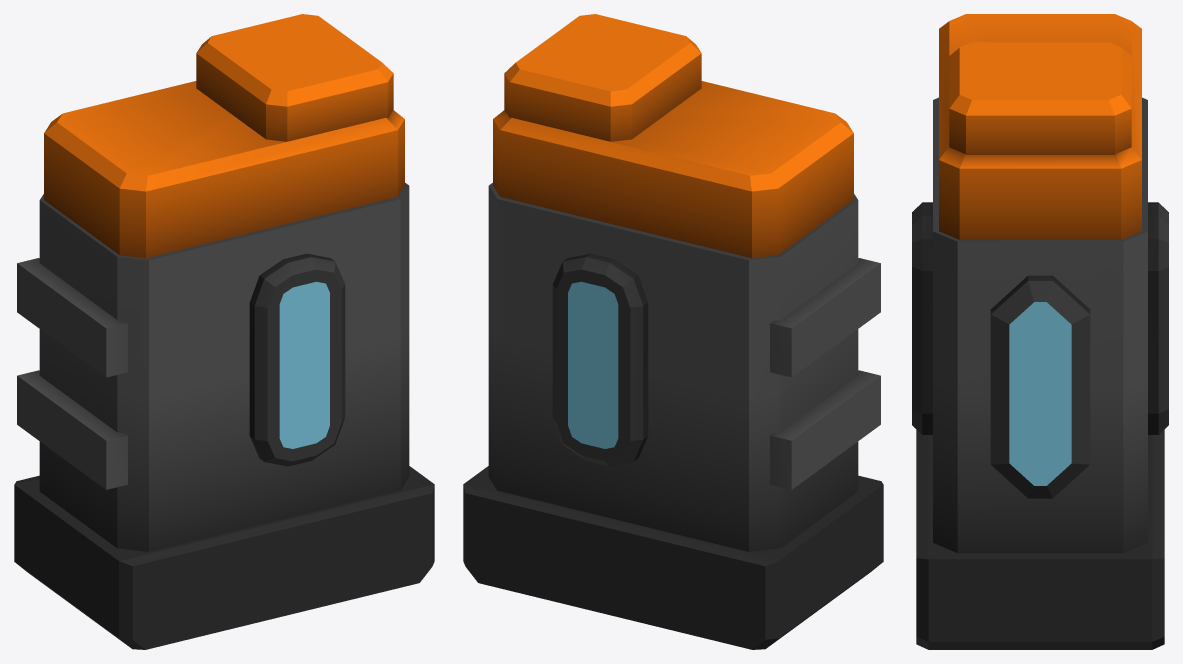
Rendered from ammo-pistol.glb.
The picture shows the model from 3 angles, left to right: view 1: azimuth 30°, elevation 25°; view 2: azimuth 150°, elevation 25°; view 3: azimuth 270°, elevation 25°; orthographic projection. The views are drawn at different scales.
Visible parts, largest first — view 1: ammo-pistol; view 2: ammo-pistol; view 3: ammo-pistol.
Part boxes in pixels (bbox=[...]): ammo-pistol: bbox=[14, 14, 434, 649]; ammo-pistol: bbox=[463, 14, 883, 649]; ammo-pistol: bbox=[912, 14, 1168, 649].
Bounding box in the file's own units: 0.0975 × 0.144 × 0.062.
1 material, 1 textured.
